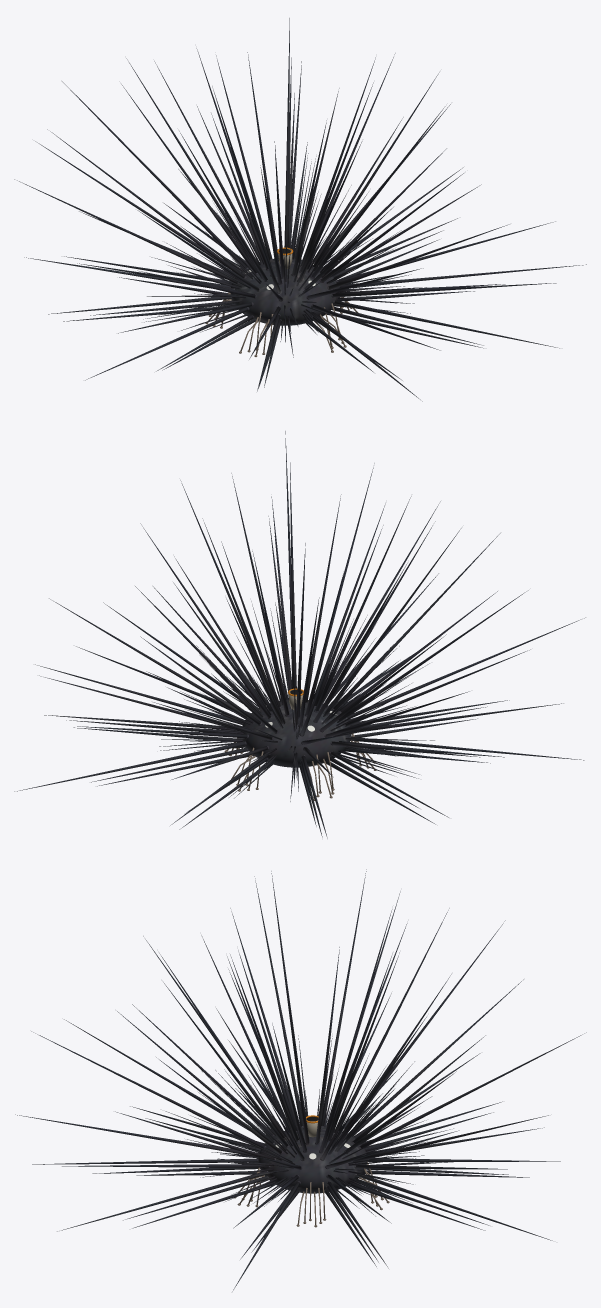
The model's file is diadema_setosum_hybrid.glb.
3 renders of one model, top to bottom at view 1: azimuth 30°, elevation 25°; view 2: azimuth 150°, elevation 25°; view 3: azimuth 270°, elevation 25°, orthographic.
Parts seen in each view (by area): view 1: Spines, Test, TubeFeet; view 2: Spines, Test, TubeFeet; view 3: Spines, Test, TubeFeet.
Boxes of the visible parts, x1,y1,x2,y2 form: Spines: [14, 18, 586, 401]; Test: [230, 258, 339, 325]; TubeFeet: [205, 292, 358, 356]; Spines: [14, 431, 585, 838]; Test: [241, 699, 351, 767]; TubeFeet: [224, 733, 376, 800]; Spines: [15, 869, 586, 1291]; Test: [258, 1126, 367, 1193]; TubeFeet: [234, 1161, 389, 1227].
Size of the model in its own units: 0.3204 by 0.1692 by 0.3147.
